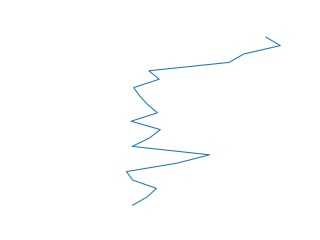crevasseRiverChannelBar: (120, 33, 285, 210)
